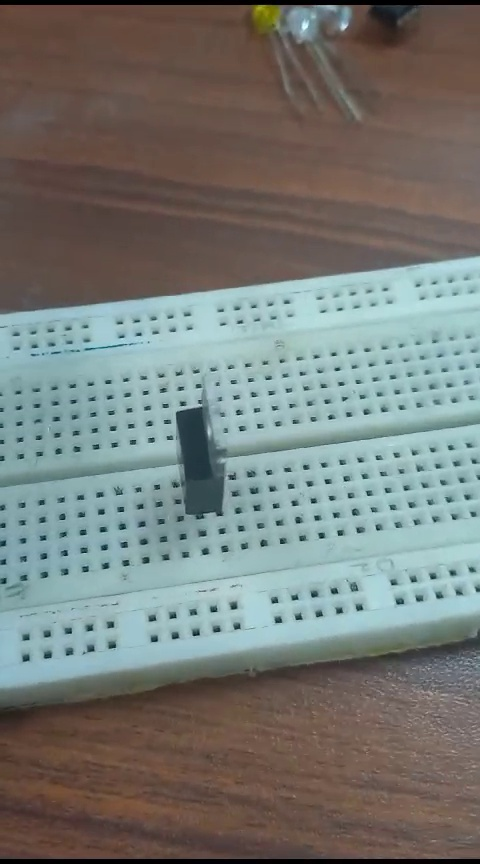voltage regulator: (150, 373, 246, 529)
